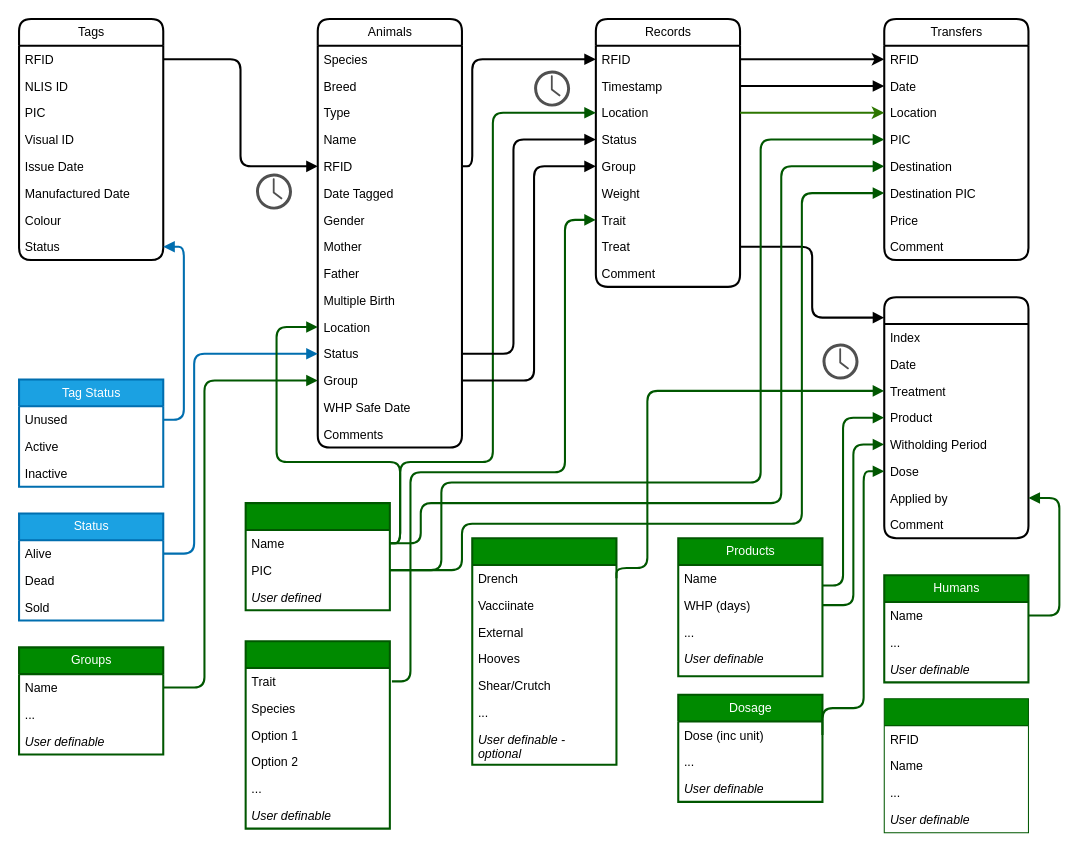
The diagram is 1086 pixels wide and 853 high, and some of its shapes have lost their labels. Each missing label, with the box of its shape:
Dogs: (883, 698, 1028, 833)
Locations: (244, 502, 390, 611)
Traits: (244, 640, 390, 829)
Treaments: (883, 296, 1029, 539)
Treatment Categories: (471, 537, 617, 765)
